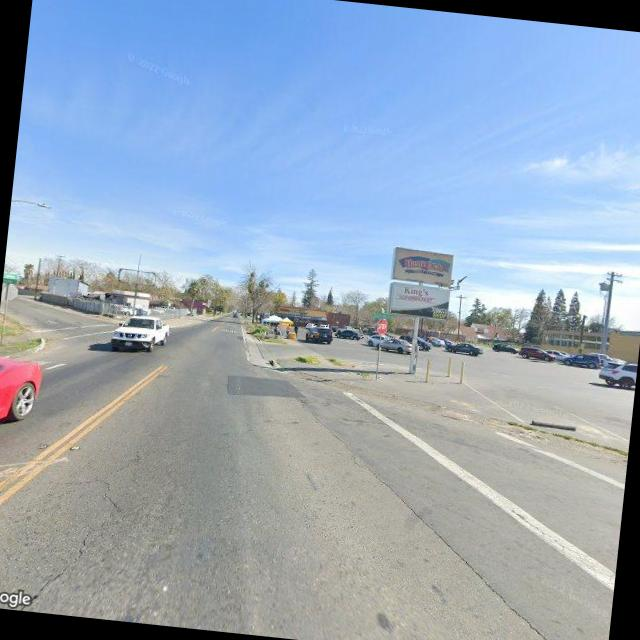pothole: (31, 441, 140, 604)
